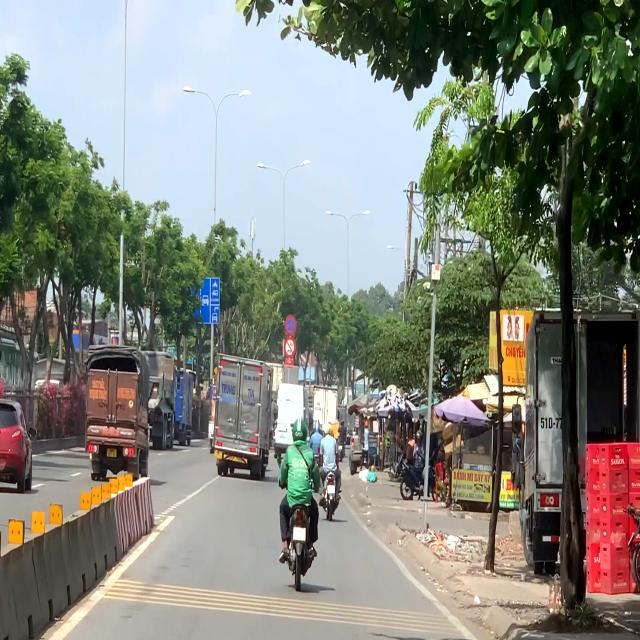P.130: (284, 314, 298, 336)
